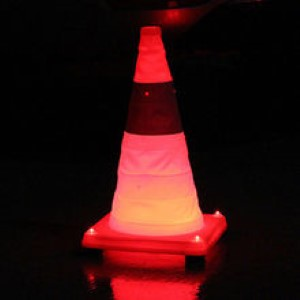traffic cone: (81, 26, 227, 254)
